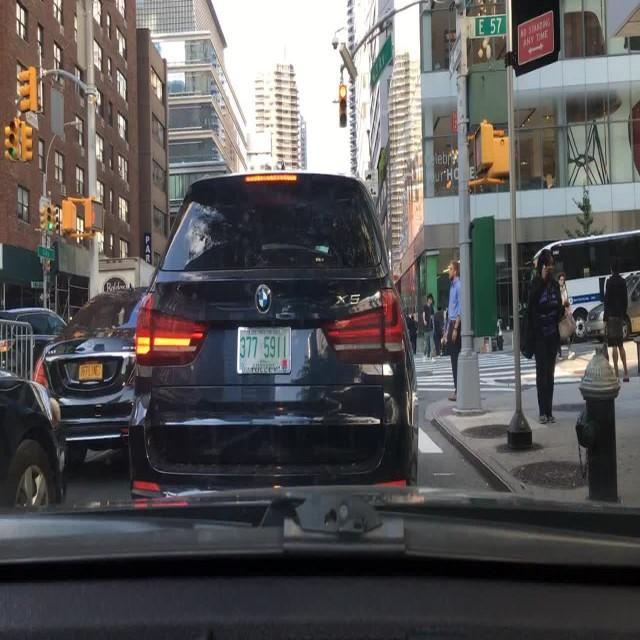normal: (130, 169, 430, 572), (529, 229, 639, 343), (0, 367, 67, 510)
